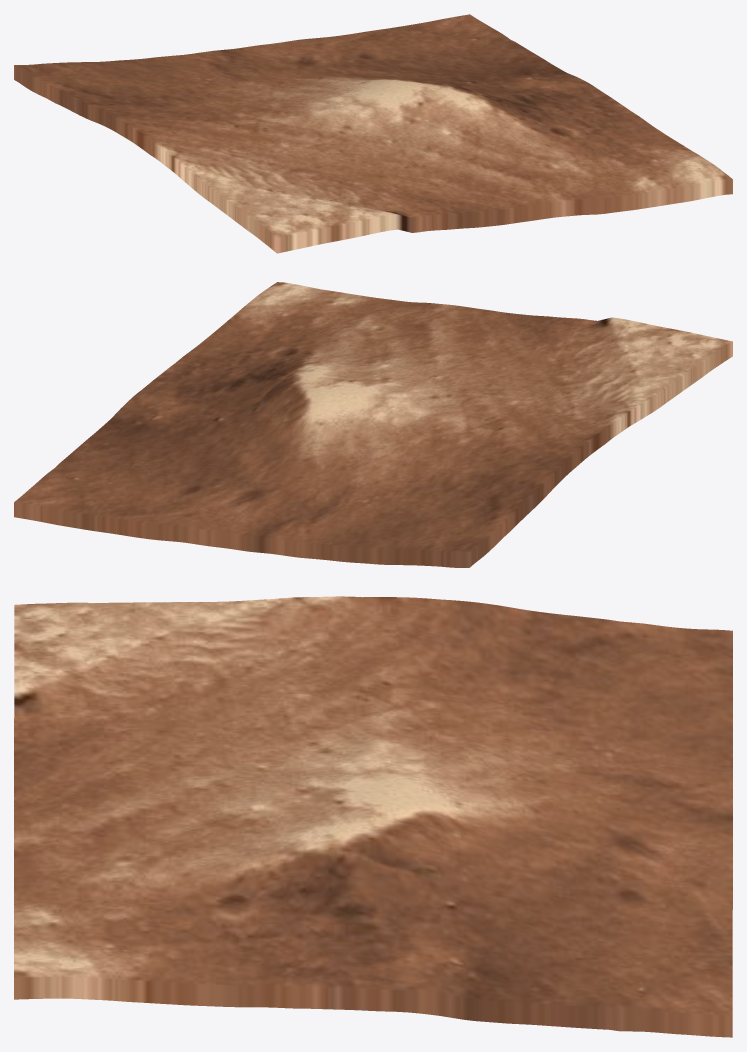
3 views of the same model, one above another, from view 1: azimuth 30°, elevation 25°; view 2: azimuth 150°, elevation 25°; view 3: azimuth 270°, elevation 25° (orthographic). The views are drawn at different scales.
Visible parts, largest first — view 1: L7_42_45; view 2: L7_42_45; view 3: L7_42_45.
Part boxes in pixels (x1,y1,x2,y2): L7_42_45: [14, 14, 732, 253]; L7_42_45: [14, 282, 732, 567]; L7_42_45: [14, 596, 732, 1037].
Bounding box in the file's own units: 113 × 23.74 × 113.
1 material, 1 textured.
